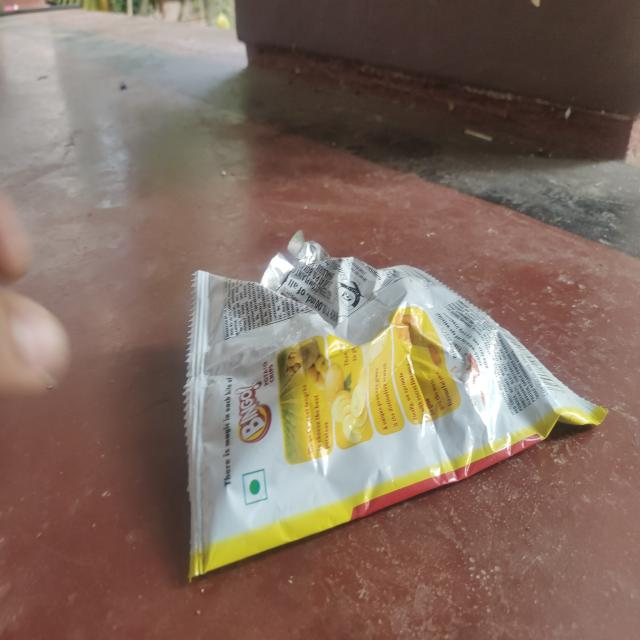plastic: (180, 223, 608, 583)
